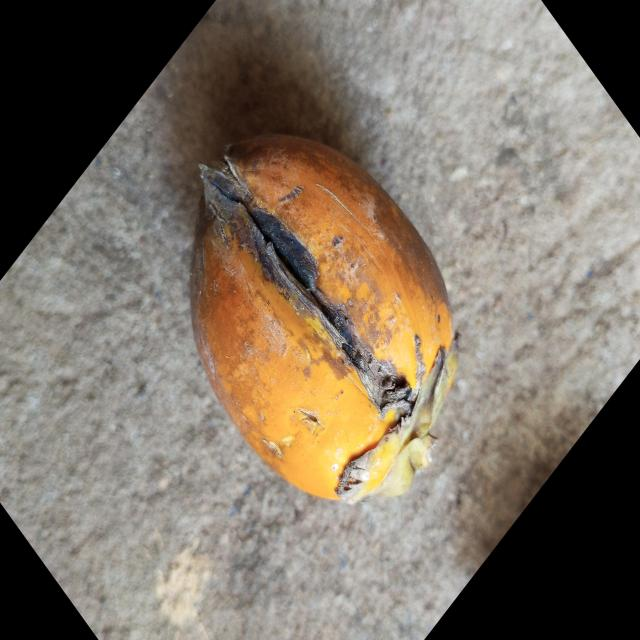damaged: (189, 134, 457, 506)
